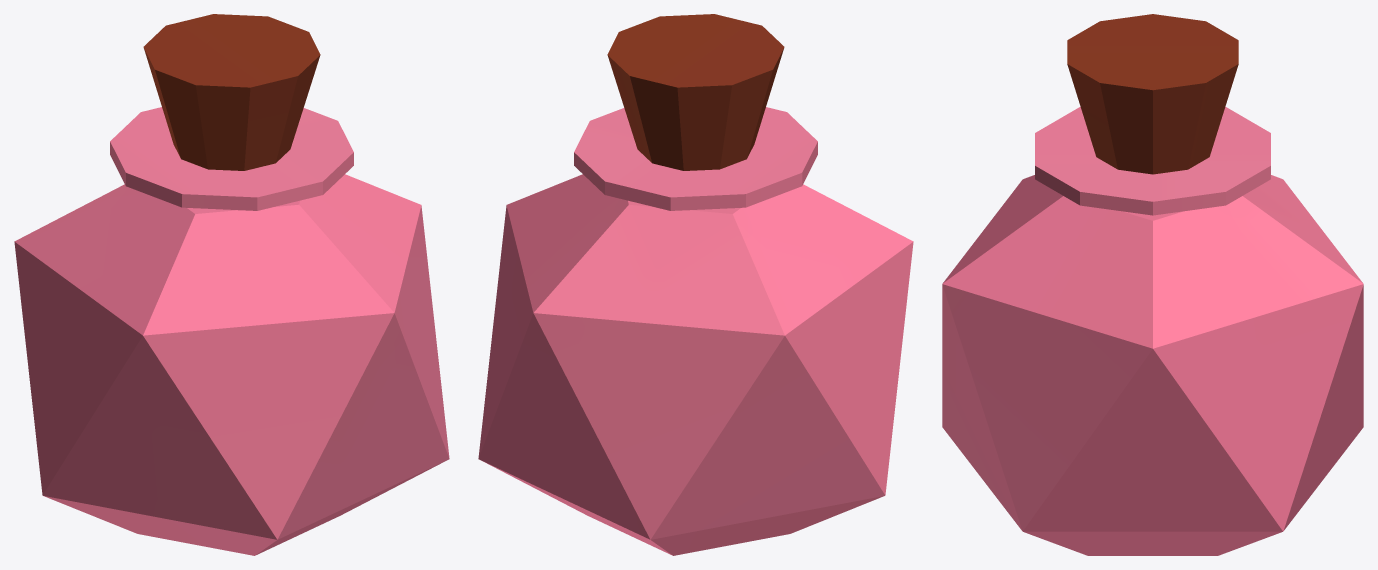
File: Health.fbx
3 views of the same model, side by side, from view 1: azimuth 30°, elevation 25°; view 2: azimuth 150°, elevation 25°; view 3: azimuth 270°, elevation 25° (orthographic).
Visible parts, largest first — view 1: Health; view 2: Health; view 3: Health.
Part boxes in pixels (x1,y1,x2,y2): Health: [14, 14, 449, 555]; Health: [478, 14, 913, 555]; Health: [942, 14, 1363, 555].
Size of the model in its own units: 537 by 623 by 510.
